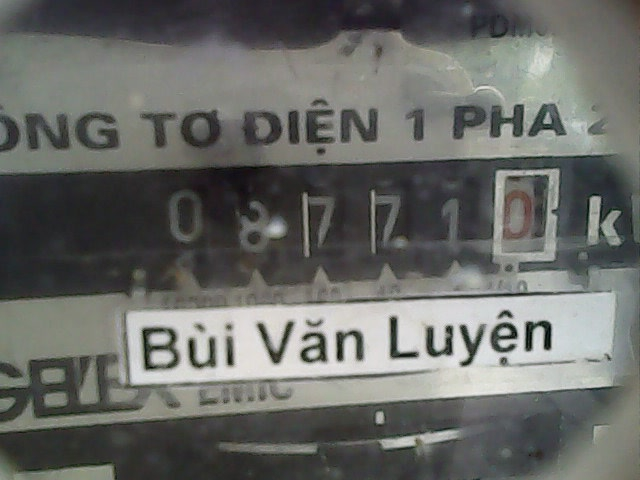phy_plate: (139, 162, 572, 271)
